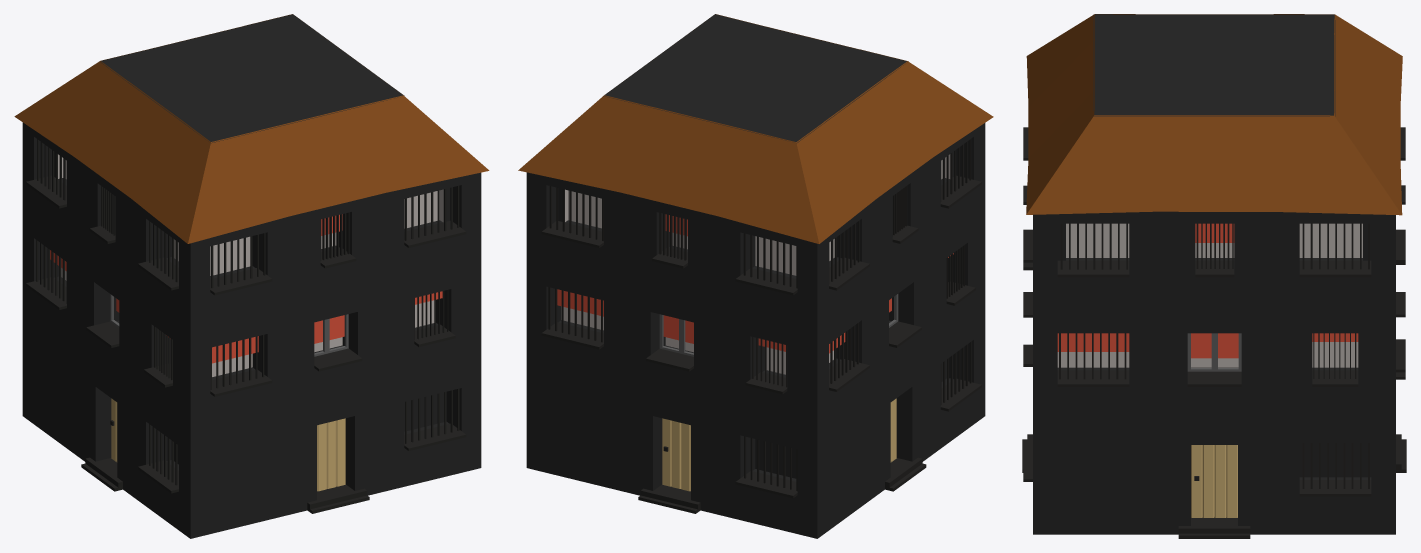
Rendered from Casa_Procedural_15.fbx.
3 renders of one model, left to right at view 1: azimuth 30°, elevation 25°; view 2: azimuth 150°, elevation 25°; view 3: azimuth 270°, elevation 25°, orthographic. The views are drawn at different scales.
Visible parts, largest first — view 1: 15; view 2: 15; view 3: 15.
Boxes of the visible parts, x1,y1,x2,y2 form: 15: [14, 14, 489, 538]; 15: [518, 14, 993, 538]; 15: [1022, 14, 1406, 538].
Bounding box in the file's own units: 318 × 359 × 318.
